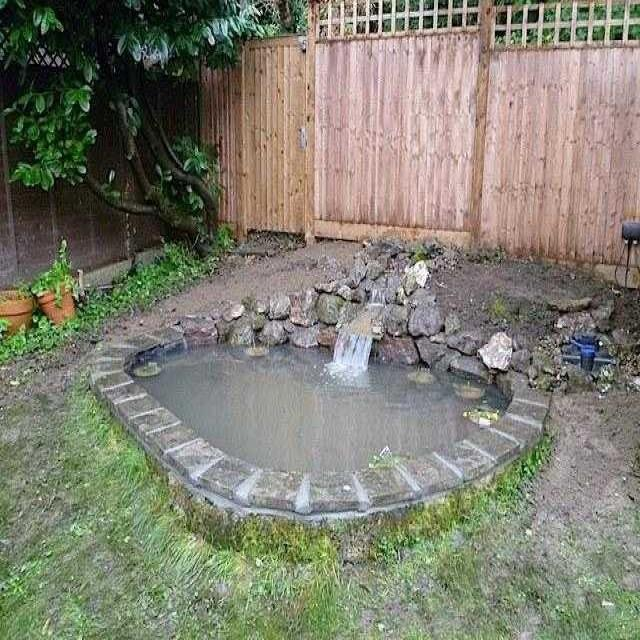Ponds: (87, 255, 559, 523)
